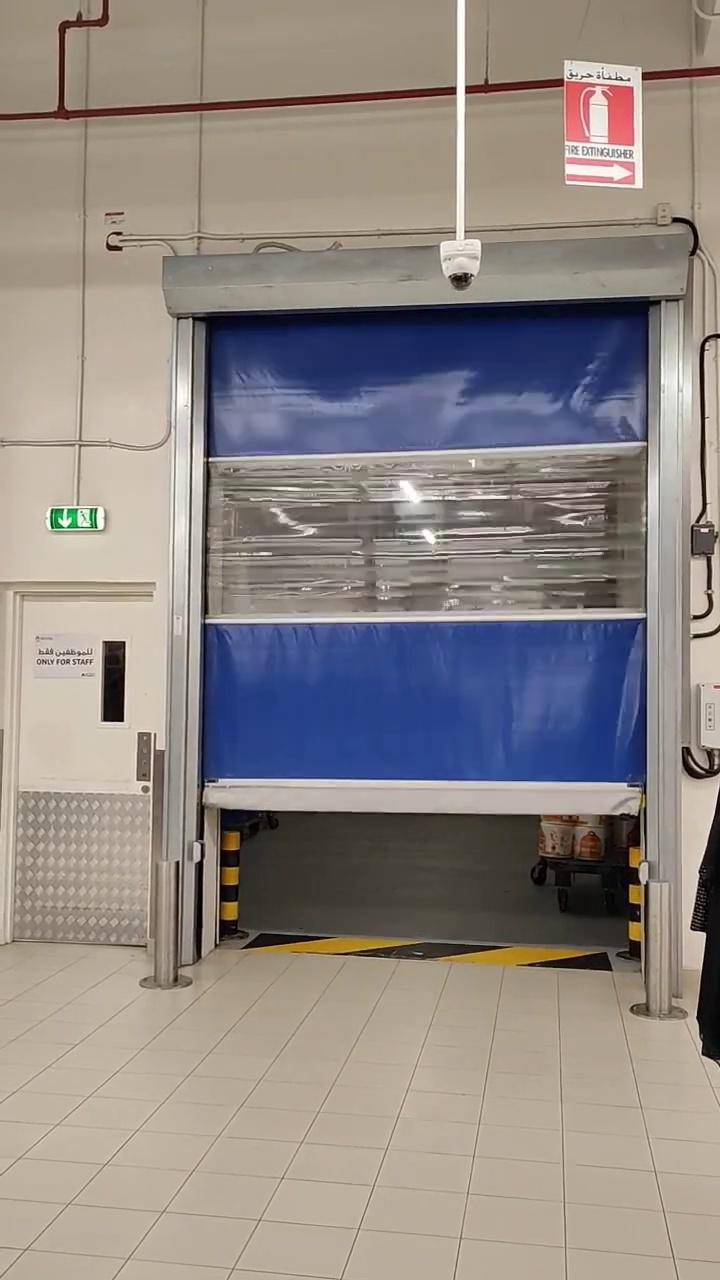Strip: (256, 920, 603, 973)
